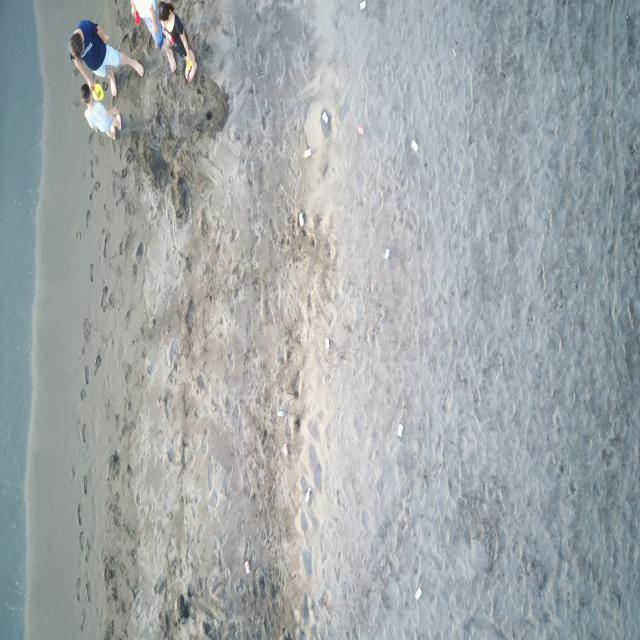Garbage: (91, 83, 103, 100), (304, 488, 311, 503), (355, 124, 364, 135), (409, 140, 417, 151), (298, 209, 303, 226), (320, 111, 327, 123), (413, 587, 420, 599), (396, 424, 403, 436), (303, 148, 311, 158), (281, 443, 287, 456), (276, 408, 286, 415), (244, 560, 249, 573), (359, 0, 366, 9), (384, 247, 388, 259), (324, 337, 327, 350), (452, 48, 455, 56)
